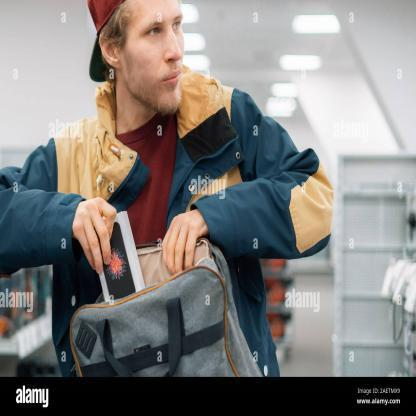Shoplifting: (21, 10, 399, 370)
